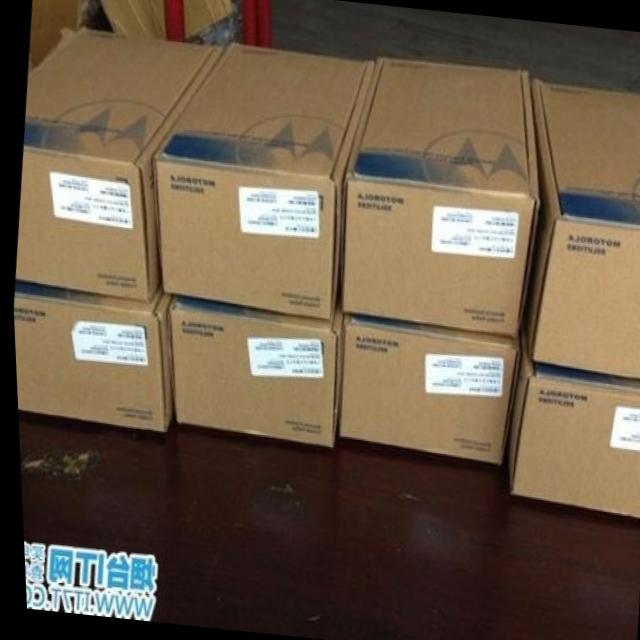box: (152, 41, 374, 320), (14, 24, 222, 302), (339, 56, 535, 340), (519, 81, 640, 387), (165, 271, 339, 447), (333, 314, 517, 465), (503, 333, 640, 520), (11, 277, 171, 431)
